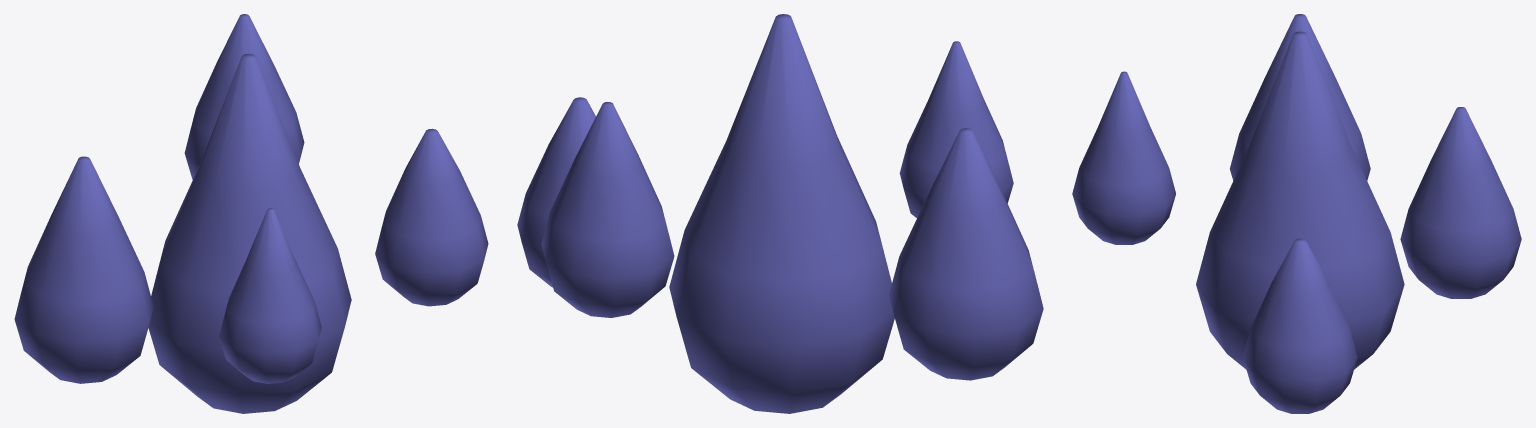
Rendered from Water_drop.fbx.
3 renders of one model, left to right at view 1: azimuth 30°, elevation 25°; view 2: azimuth 150°, elevation 25°; view 3: azimuth 270°, elevation 25°, orthographic. The views are drawn at different scales.
Visible parts, largest first — view 1: Sphere.004; view 2: Sphere.004; view 3: Sphere.004.
Boxes of the visible parts, x1,y1,x2,y2 form: Sphere.004: (14,14,488,413); Sphere.004: (517,14,1043,413); Sphere.004: (1072,14,1521,413).
Size of the model in its own units: 498 by 364 by 431.
